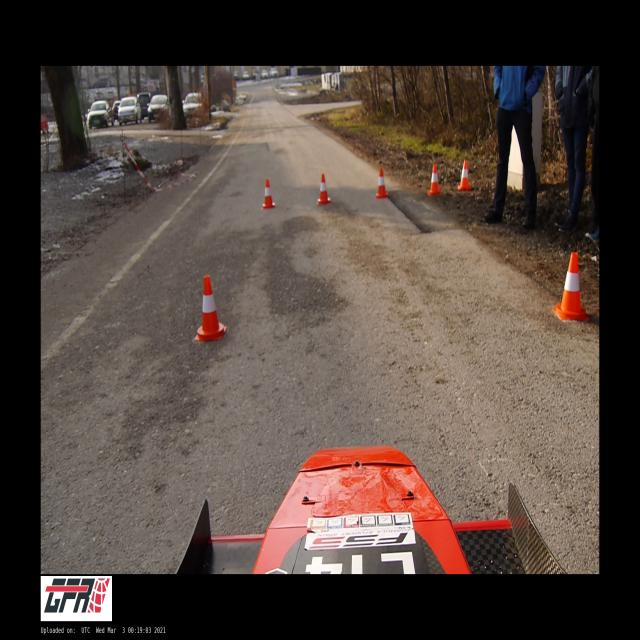orange_cone: (553, 253, 590, 320), (195, 275, 227, 340), (317, 174, 331, 204), (375, 168, 389, 198), (428, 165, 442, 195), (458, 160, 471, 190), (262, 179, 275, 208)
